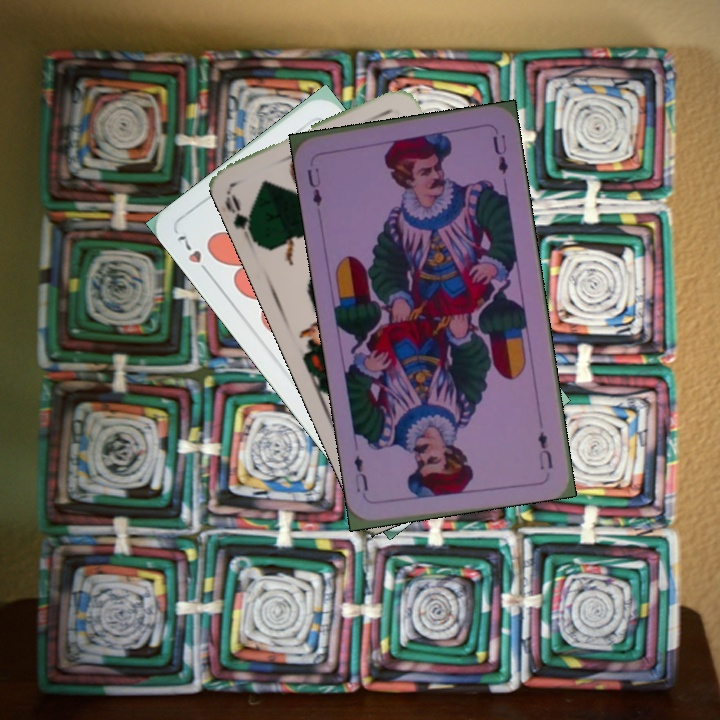EU: (302, 164, 325, 209), (534, 428, 556, 472)
GO: (221, 188, 256, 245)
H7: (172, 231, 214, 279)
